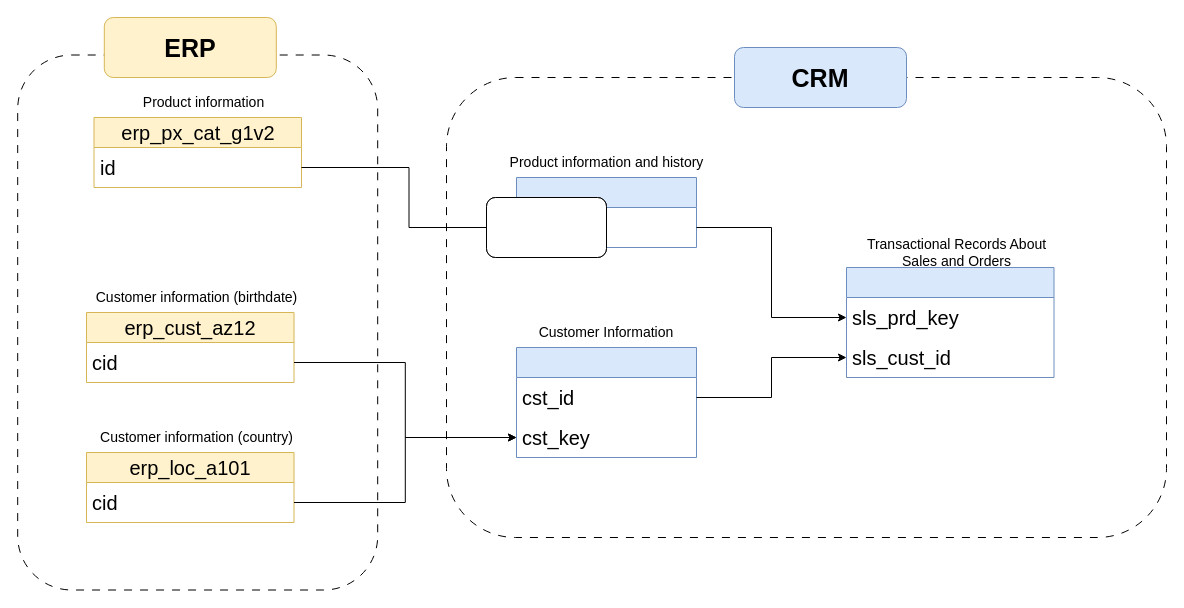
The diagram is 1184 pixels wide and 608 high, and some of its shapes have lost their labels. The box of each missing label's shape, as (x1, y1, x2, y2) in pixels:
crm_cust_info: (516, 346, 696, 458)
crm_prd_info: (516, 176, 696, 248)
crm_sales_details: (846, 266, 1054, 378)
